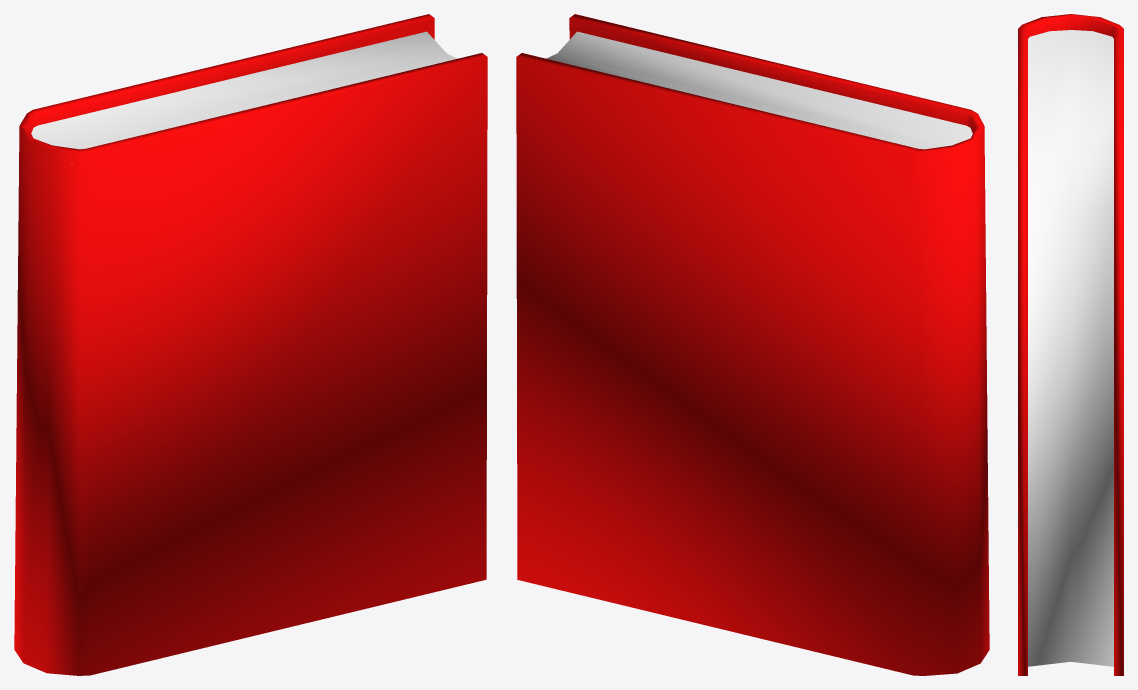
Rendered from book.fbx.
3 views of the same model, side by side, from view 1: azimuth 30°, elevation 25°; view 2: azimuth 150°, elevation 25°; view 3: azimuth 270°, elevation 25° (orthographic). The views are drawn at different scales.
Visible parts, largest first — view 1: transform1; view 2: transform1; view 3: transform1.
Boxes of the visible parts, box(x1,y1,x2,y2) form: transform1: box(14, 14, 487, 675); transform1: box(516, 14, 989, 675); transform1: box(1018, 14, 1123, 675).
Size of the model in its own units: 69.53 by 79.95 by 16.22.
